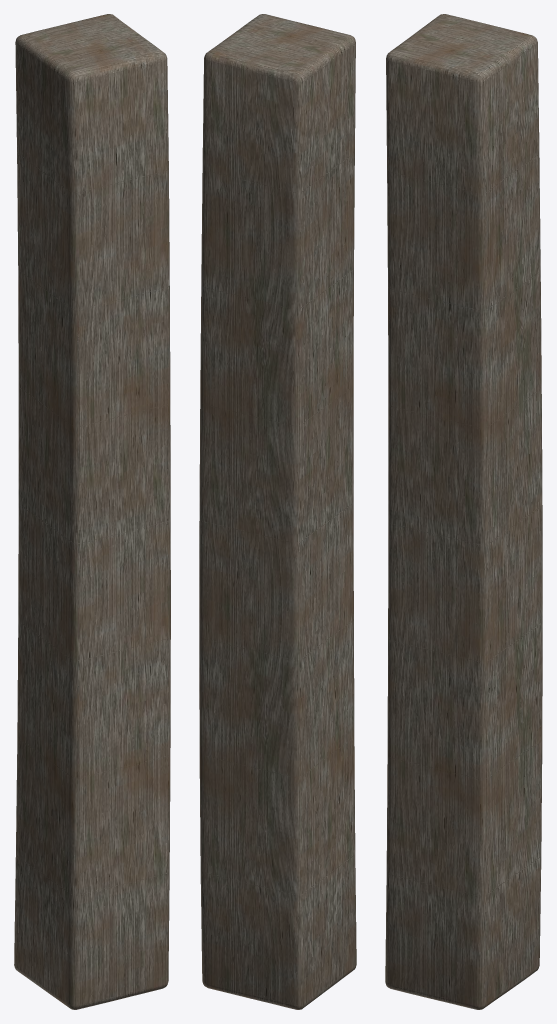
Rendered from post_corner.glb.
The picture shows the model from 3 angles, left to right: view 1: azimuth 30°, elevation 25°; view 2: azimuth 150°, elevation 25°; view 3: azimuth 330°, elevation 25°; orthographic projection.
Visible parts, largest first — view 1: post_corner; view 2: post_corner; view 3: post_corner.
Boxes of the visible parts, box(x1,y1,x2,y2) form: post_corner: box(14, 14, 170, 1009); post_corner: box(199, 14, 356, 1009); post_corner: box(385, 14, 542, 1009).
Size of the model in its own units: 0.2925 by 2.5 by 0.2874.
Materials: 1 (1 with a texture image).
